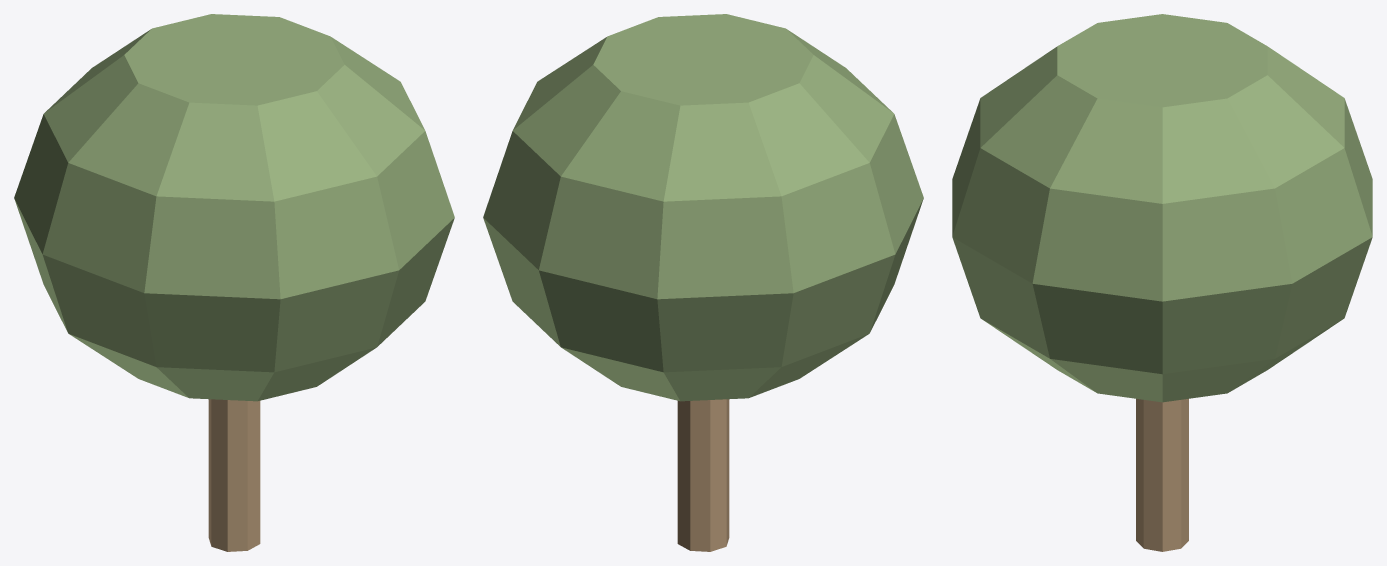
File: oak-arch-6.glb
3 views of the same model, side by side, from view 1: azimuth 30°, elevation 25°; view 2: azimuth 150°, elevation 25°; view 3: azimuth 270°, elevation 25° (orthographic).
Visible parts, largest first — view 1: living roof, timber; view 2: living roof, timber; view 3: living roof, timber.
Part boxes in pixels (box(x1,y1,x2,y2)): living roof: box(14, 14, 454, 401); timber: box(208, 399, 260, 551); living roof: box(483, 14, 923, 401); timber: box(677, 399, 729, 551); living roof: box(952, 14, 1372, 402); timber: box(1136, 399, 1188, 551).
Bounding box in the file's own units: 8.61 × 10.8 × 8.19.
